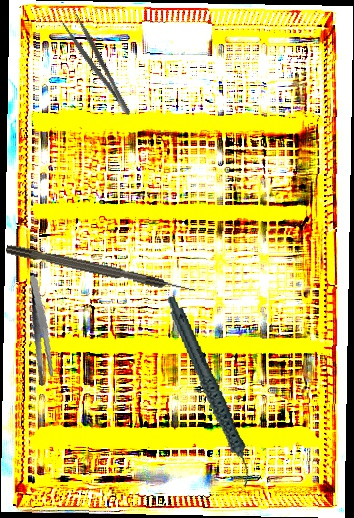Dressing Forceps: (60, 12, 134, 122), (15, 275, 67, 387)
Handpiece: (166, 287, 254, 496)
Hook Surgical: (5, 242, 196, 297)
